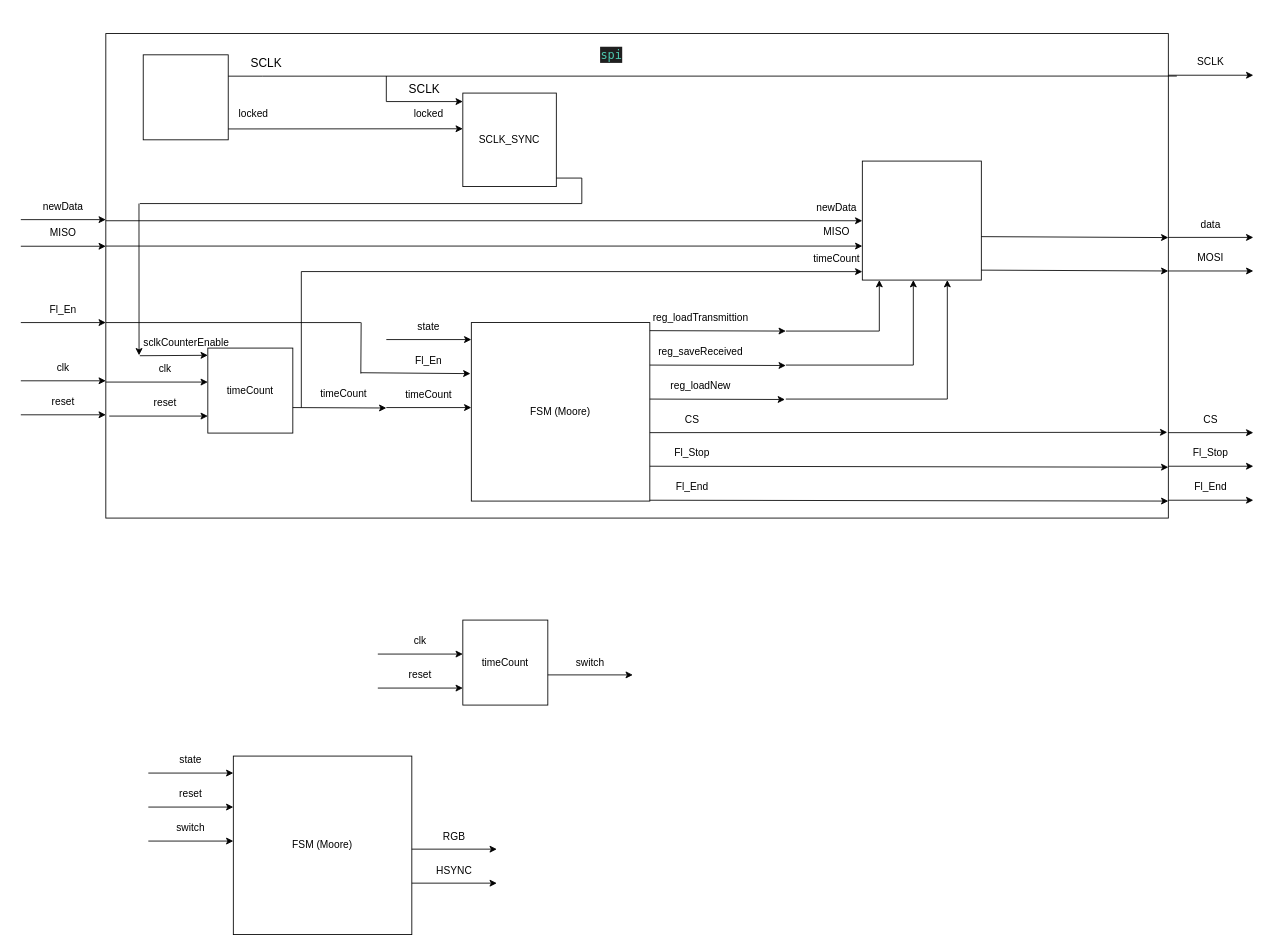
Image size: 1275x949. Some labels were removed from this diagram. Here are the shapes that lost their labels. From the top down, the box of each, then its label:
(142, 54, 228, 140): MMCM_inst
(861, 160, 981, 280): SHIFT_REG
